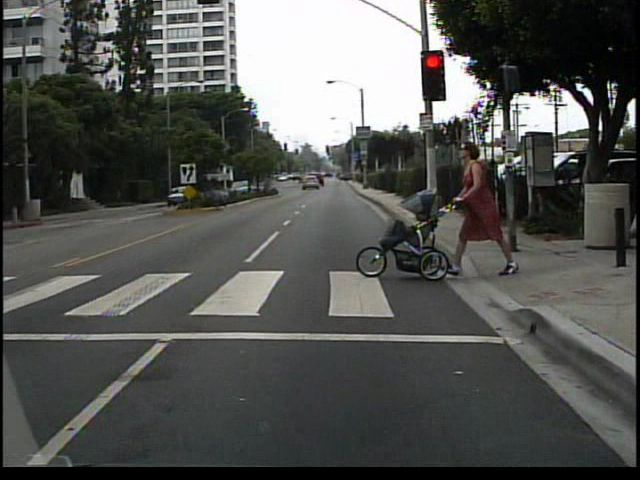person: (453, 139, 521, 280)
